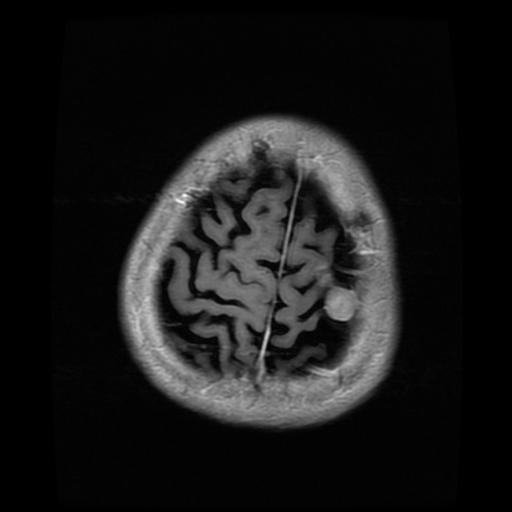Menigiomia_tumour: (324, 284, 358, 319)
